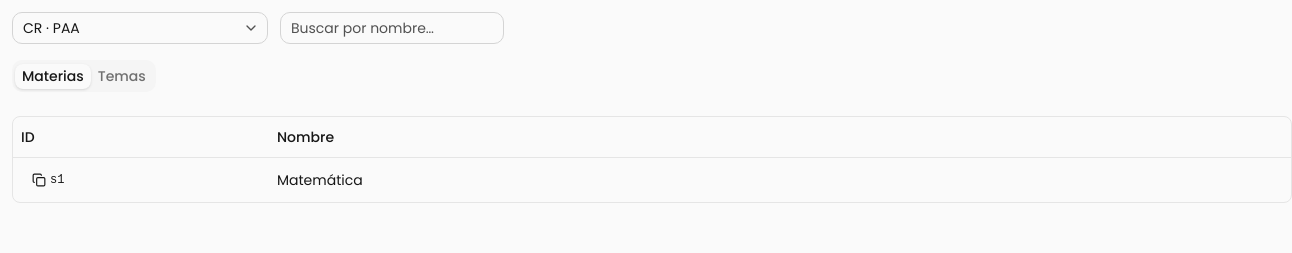
Scenario: IdsReference › al cambiar a Temas muestra el tema
Click the tab "Temas" at (122, 76), box [91,64,153,88]
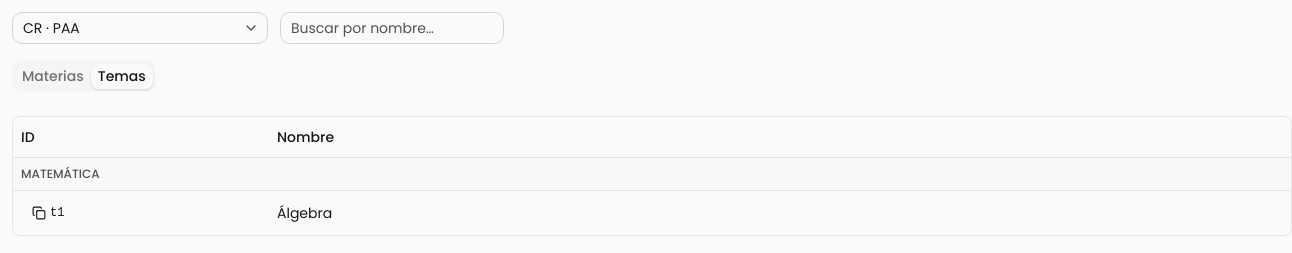
expect the text "Álgebra" is shown: met, box [269,190,1291,234]
